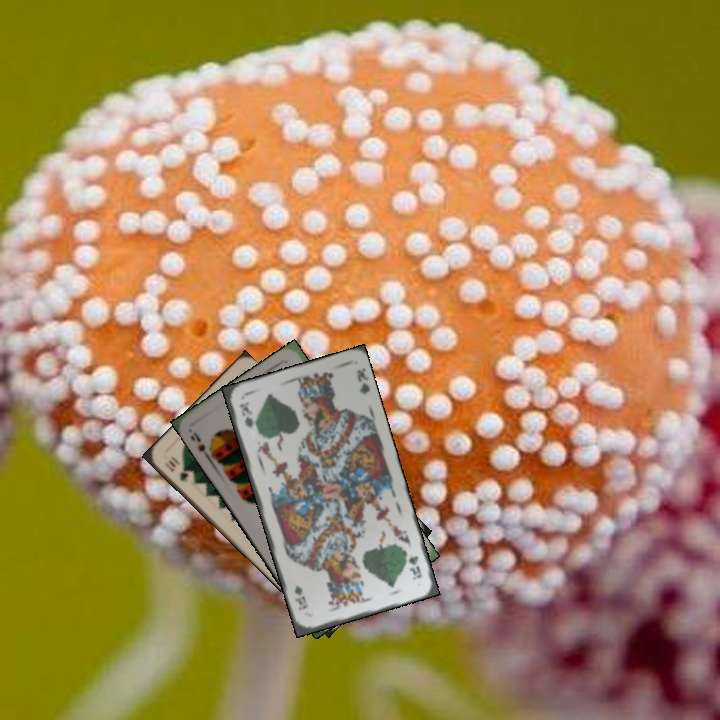G10: (160, 456, 191, 485)
GK: (235, 398, 256, 431), (404, 551, 424, 582)
S9: (186, 427, 217, 463)
